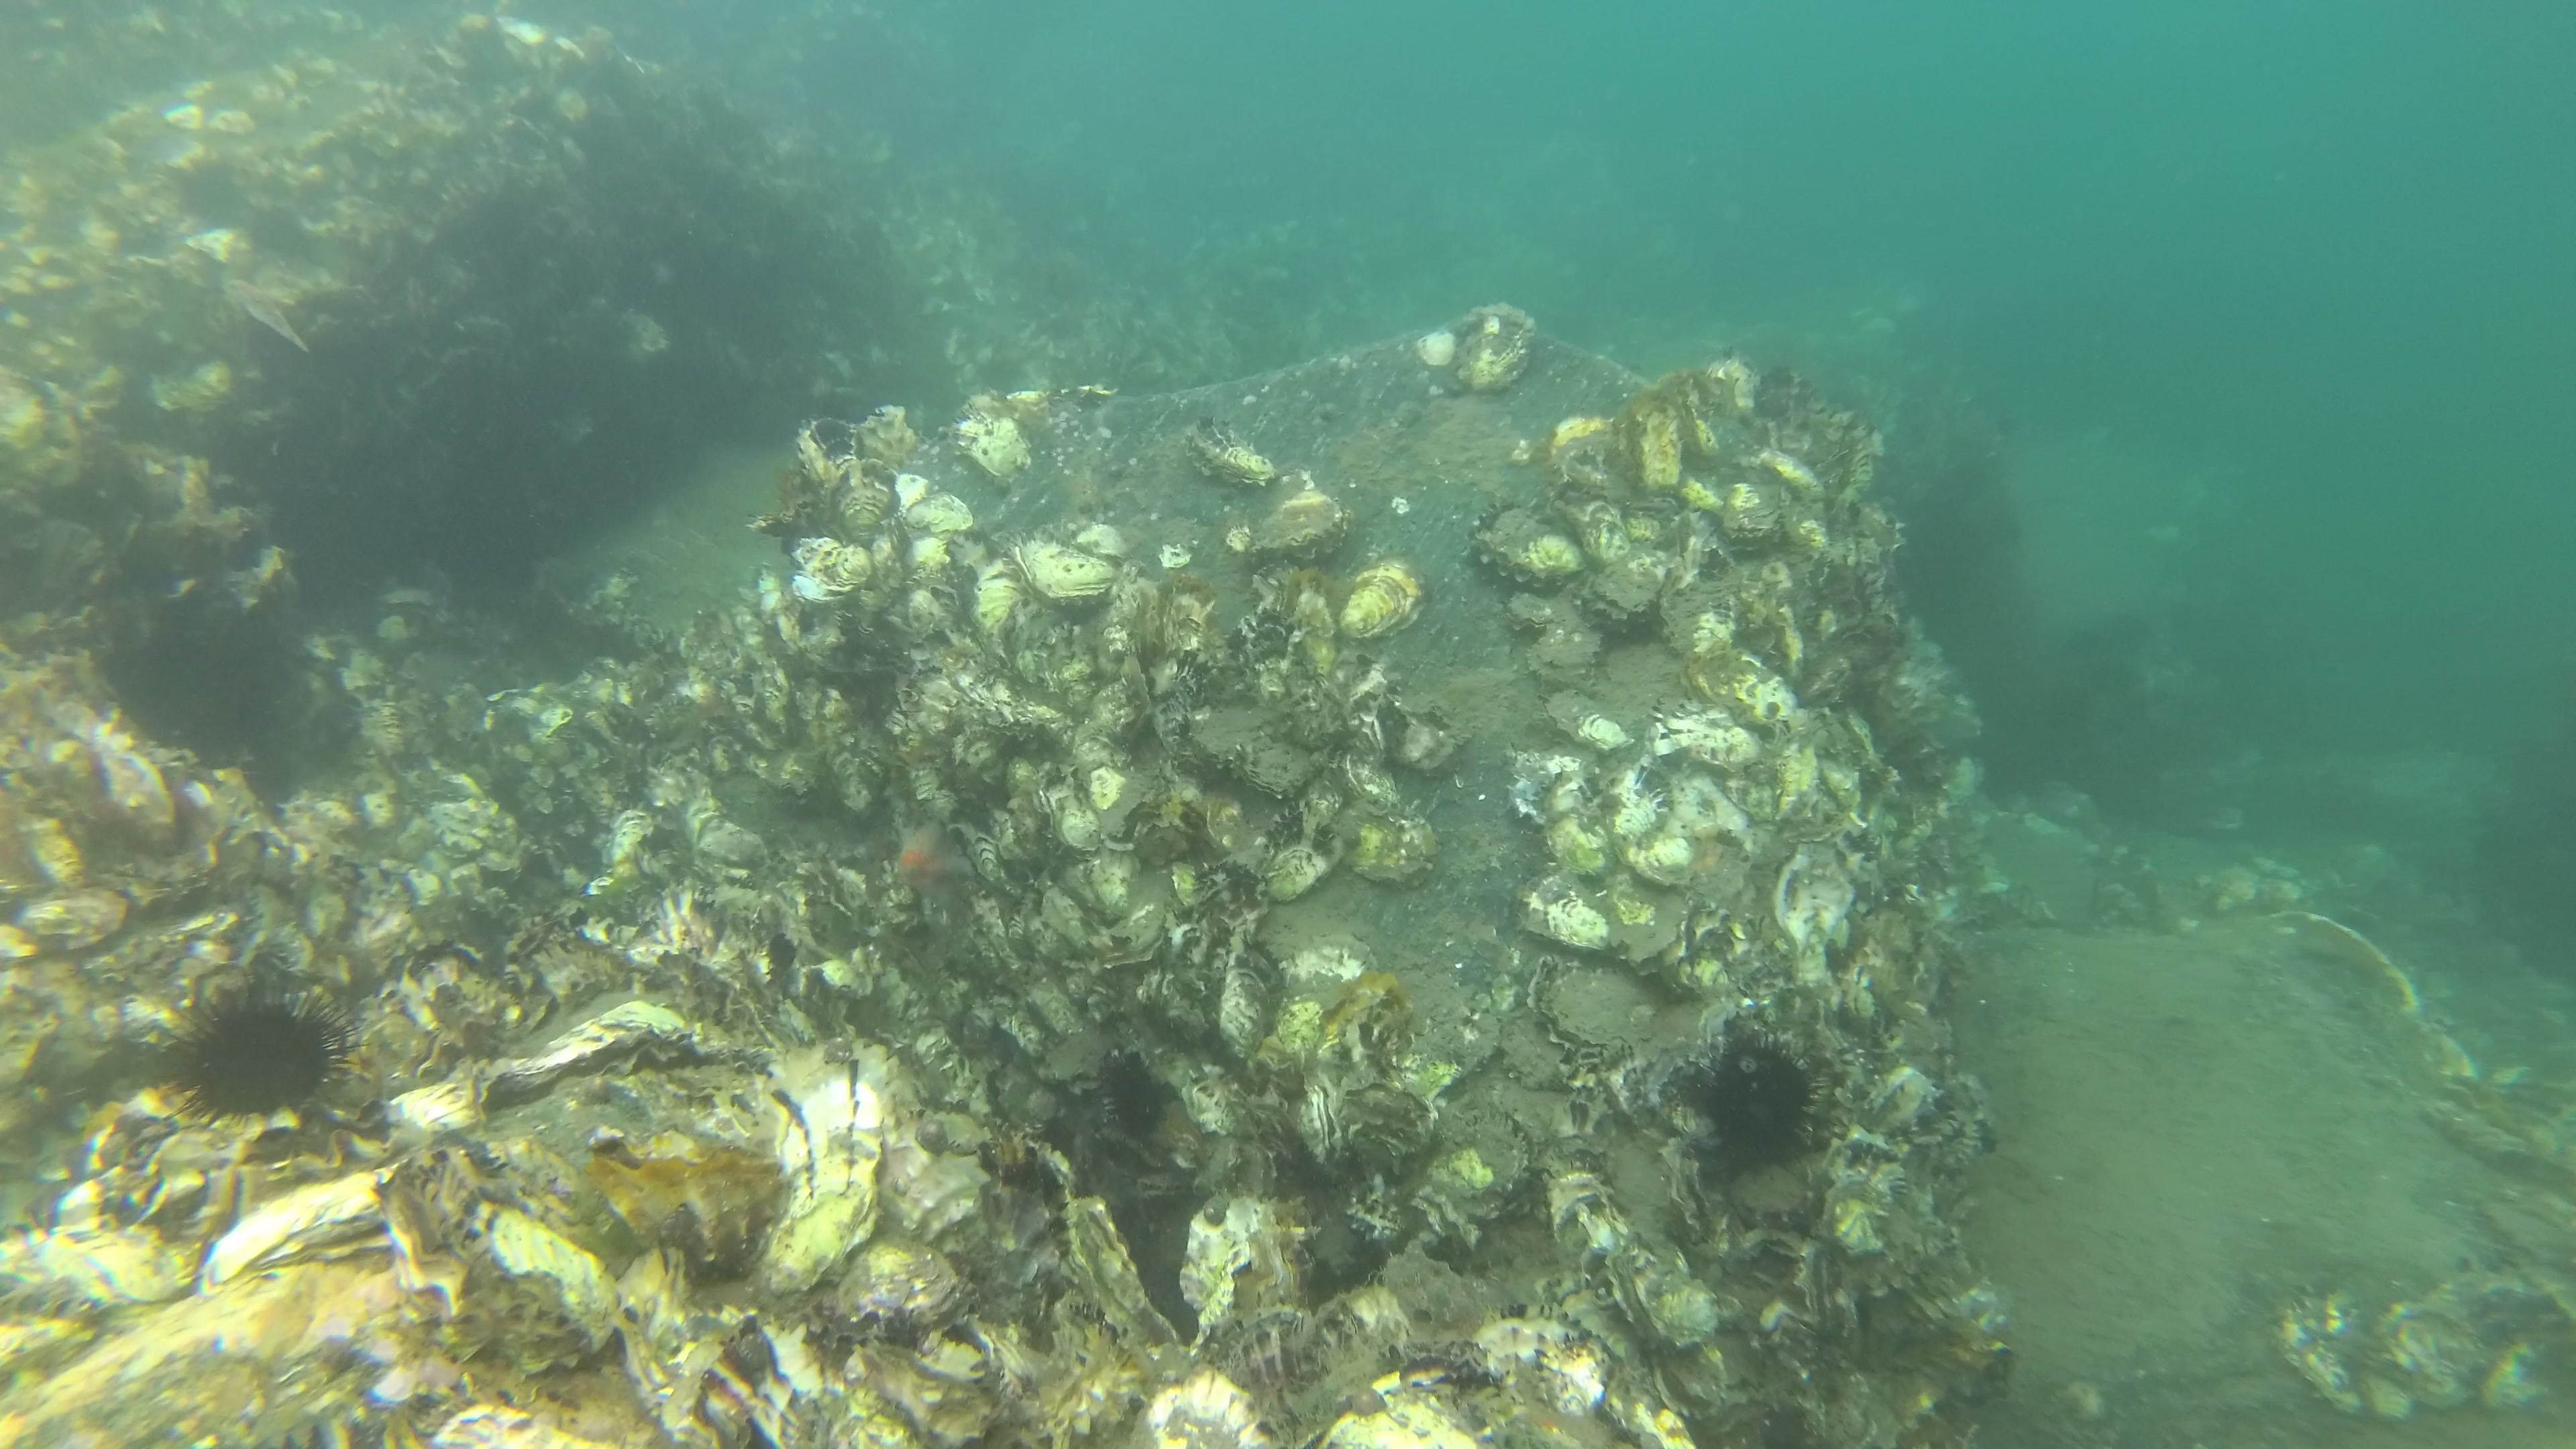echinus: (157, 984, 361, 1132), (1688, 1021, 1831, 1184)
starfish: (883, 796, 978, 931)
